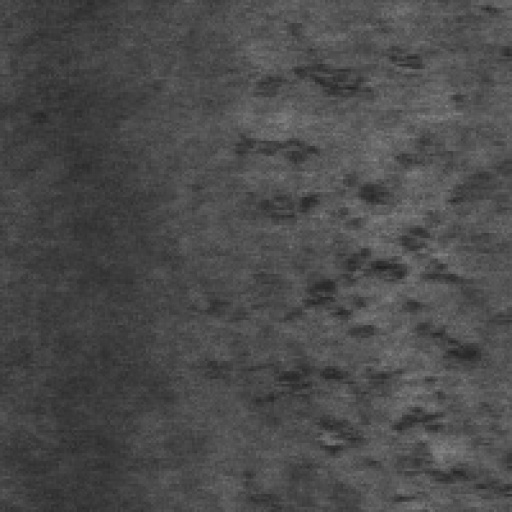rolled_in_scale: (187, 138, 497, 508), (226, 7, 453, 138)
